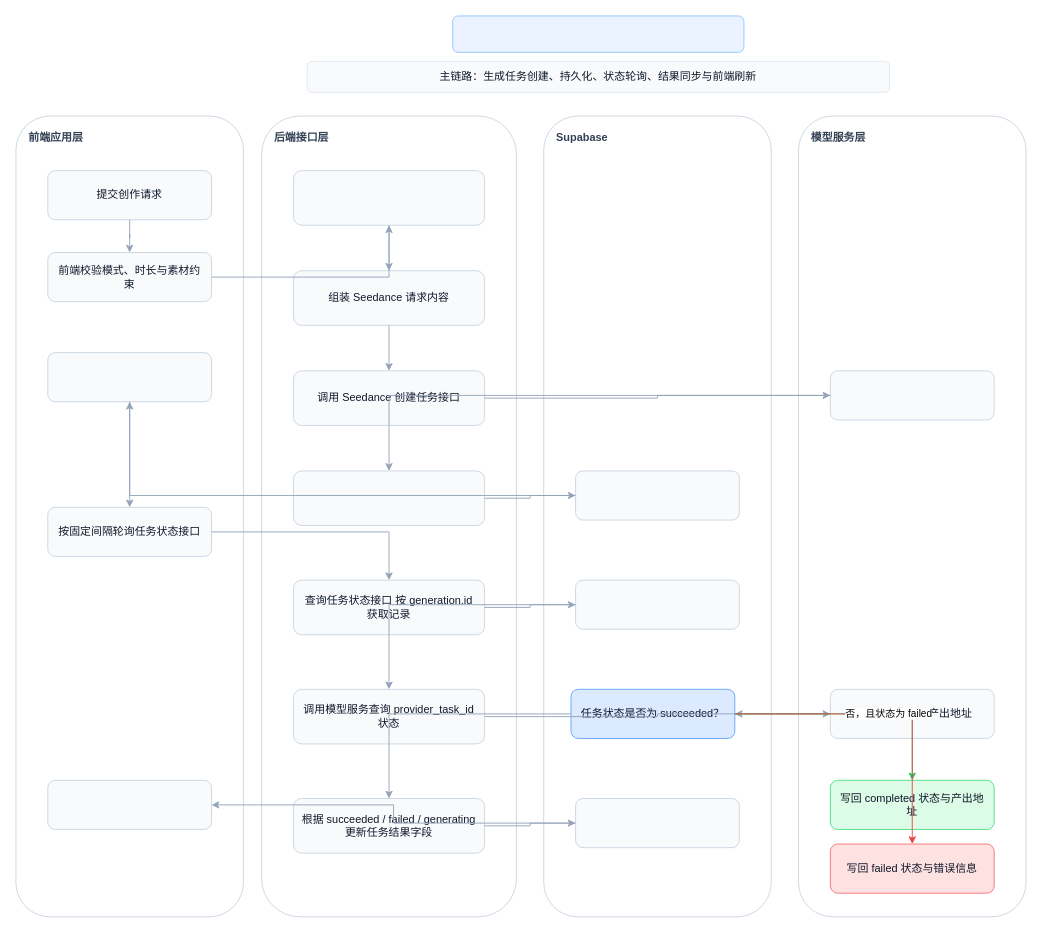
This 1042x933 diagram has some shape labels left out. The shapes that lost their labels are listed below. From the top down, each one's centre as x and y in pixels, then its label:
At [598,33]: "quchuang-bolt-1.0 技术实现流程图".
At [389,197]: "生成接口接收请求 并校验请求体".
At [129,377]: "将生成中状态写入前端列表".
At [911,395]: "返回 provider task id".
At [389,498]: "写入 generations 记录 状态为 generating".
At [657,495]: "持久化生成任务记录".
At [657,604]: "按 generation.id 查询任务记录".
At [129,804]: "刷新历史记录、资产状态与提示信息".
At [657,823]: "更新状态、视频地址、末帧地址与错误信息".
